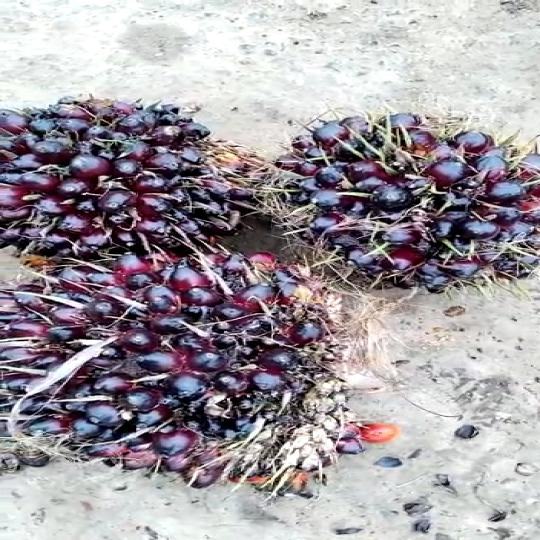mentah: (0, 254, 362, 499), (0, 79, 262, 261), (283, 108, 540, 292)
